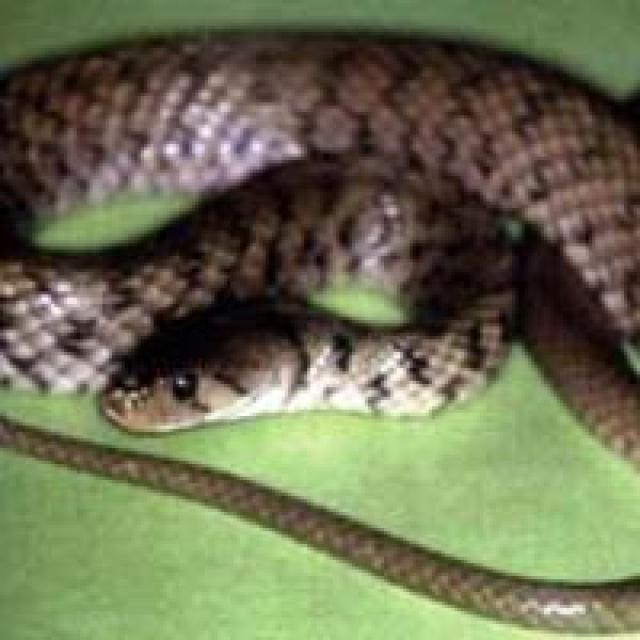Snake: (0, 22, 637, 637)
